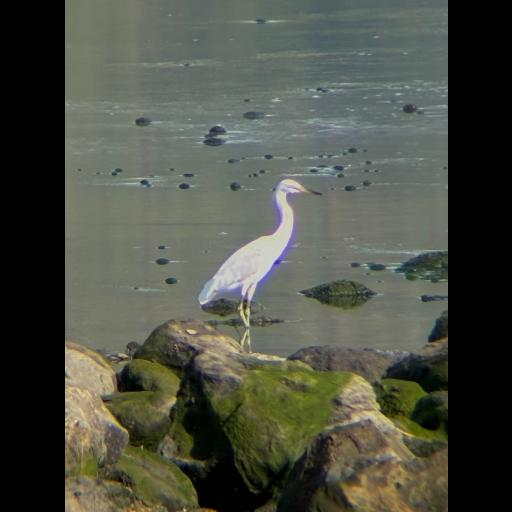chinese_egret: (198, 176, 324, 330)
